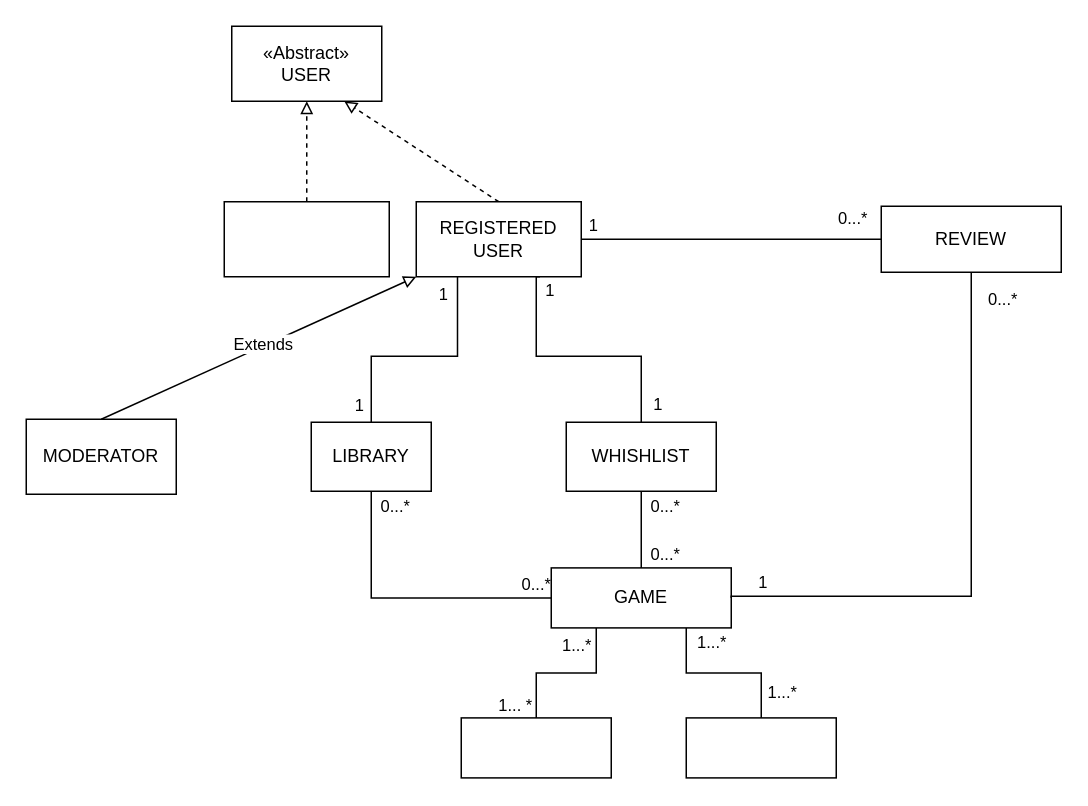
Image size: 1088x806. Some labels were removed from this diagram. The shapes that lost their labels are listed below. From the top down, each one's centre as x and y in pixels, then its label:
(x=306, y=238): UNREGISTERED USER
(x=535, y=747): GENRE
(x=760, y=747): COMPANY
